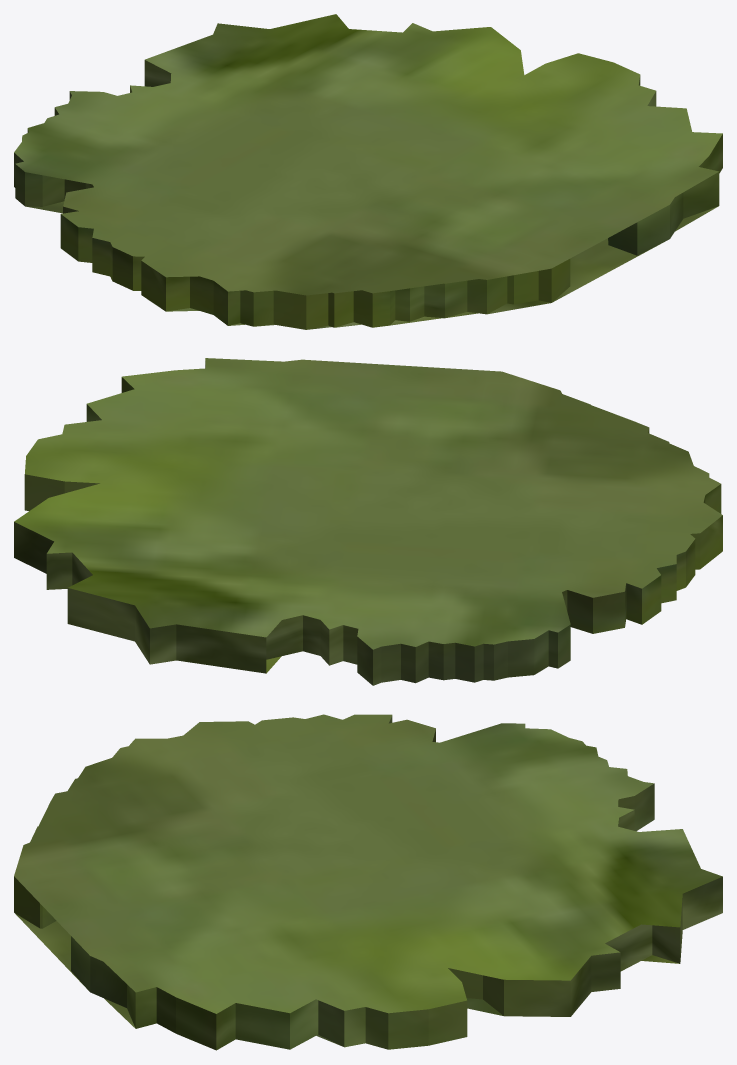
The model's file is Drvo 1.fbx.
3 views of the same model, one above another, from view 1: azimuth 30°, elevation 25°; view 2: azimuth 150°, elevation 25°; view 3: azimuth 270°, elevation 25° (orthographic). The views are drawn at different scales.
Parts seen in each view (by area): view 1: Drvo 1; view 2: Drvo 1; view 3: Drvo 1.
Boxes of the visible parts, box(x1,y1,x2,y2) form: Drvo 1: box(14, 14, 722, 329); Drvo 1: box(14, 358, 722, 685); Drvo 1: box(14, 714, 722, 1050).
Size of the model in its own units: 100 by 5.67 by 100.
1 material, 1 textured.
